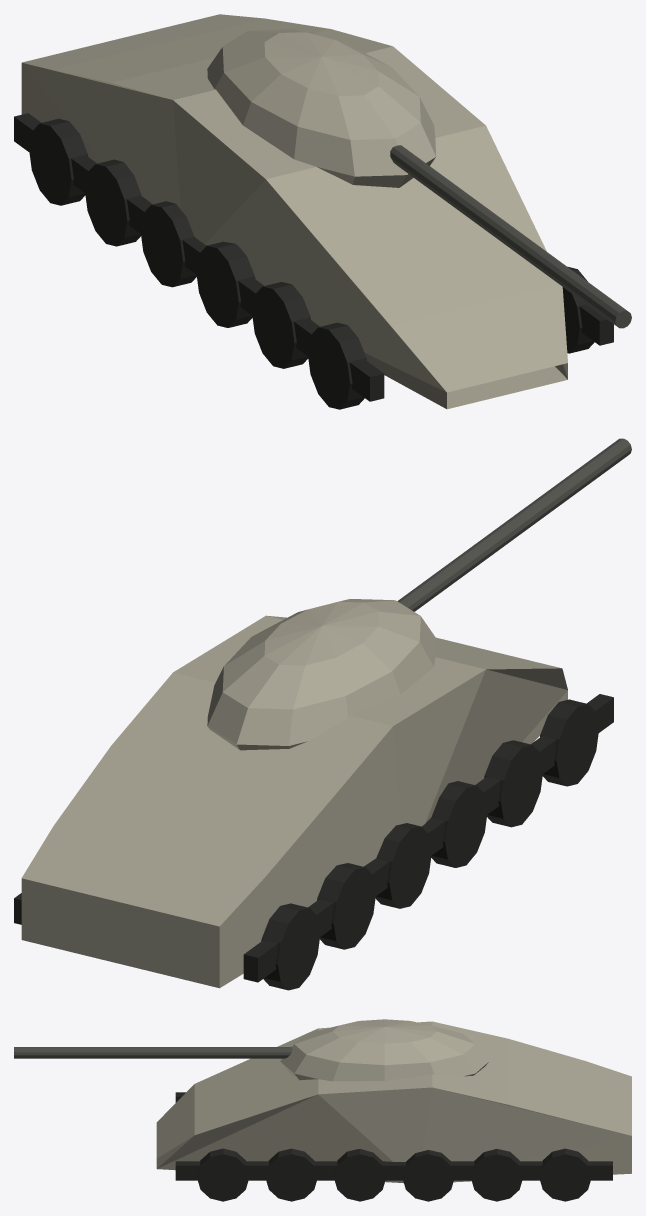
Rendered from supply_su_cw.glb.
The picture shows the model from 3 angles, top to bottom: view 1: azimuth 30°, elevation 25°; view 2: azimuth 150°, elevation 25°; view 3: azimuth 270°, elevation 25°; orthographic projection. The views are drawn at different scales.
Parts seen in each view (by area): view 1: Hull, Turret, Gun, Track_L, Wheel_L_06, Wheel_L_01, Wheel_L_02, Wheel_L_03, Wheel_L_05, Wheel_L_04, Wheel_R_01, Track_R; view 2: Hull, Turret, Gun, Track_L, Wheel_L_06, Wheel_L_01, Wheel_L_02, Wheel_L_05, Wheel_L_03, Wheel_L_04; view 3: Hull, Turret, Gun, Track_R, Wheel_R_06, Wheel_R_02, Wheel_R_01, Wheel_R_05, Wheel_R_03, Wheel_R_04.
Boxes of the visible parts, box(x1,y1,x2,y2) form: Hull: box(21, 14, 567, 409); Turret: box(207, 29, 436, 187); Gun: box(390, 145, 631, 328); Track_L: box(14, 113, 384, 401); Wheel_L_06: box(29, 118, 88, 205); Wheel_L_01: box(307, 322, 366, 409); Wheel_L_02: box(252, 282, 310, 368); Wheel_L_03: box(196, 241, 255, 327); Wheel_L_05: box(84, 159, 141, 246); Wheel_L_04: box(140, 201, 196, 287); Wheel_R_01: box(562, 266, 594, 353); Track_R: box(579, 304, 613, 345); Hull: box(21, 615, 567, 988); Turret: box(207, 599, 436, 750); Gun: box(397, 438, 631, 611); Track_L: box(243, 694, 613, 982); Wheel_L_06: box(261, 903, 320, 990); Wheel_L_01: box(540, 699, 598, 786); Wheel_L_02: box(484, 740, 543, 827); Wheel_L_05: box(317, 863, 376, 949); Wheel_L_03: box(431, 781, 487, 867); Wheel_L_04: box(375, 823, 431, 908); Hull: box(156, 1021, 631, 1183); Turret: box(280, 1019, 489, 1081); Gun: box(14, 1047, 292, 1058); Track_R: box(175, 1161, 612, 1180); Wheel_R_06: box(539, 1148, 591, 1201); Wheel_R_02: box(265, 1148, 317, 1201); Wheel_R_01: box(197, 1148, 249, 1201); Wheel_R_05: box(470, 1149, 522, 1201); Wheel_R_03: box(334, 1149, 386, 1201); Wheel_R_04: box(402, 1150, 454, 1201).
Size of the model in its own units: 2.6 by 2.23 by 9.1.
